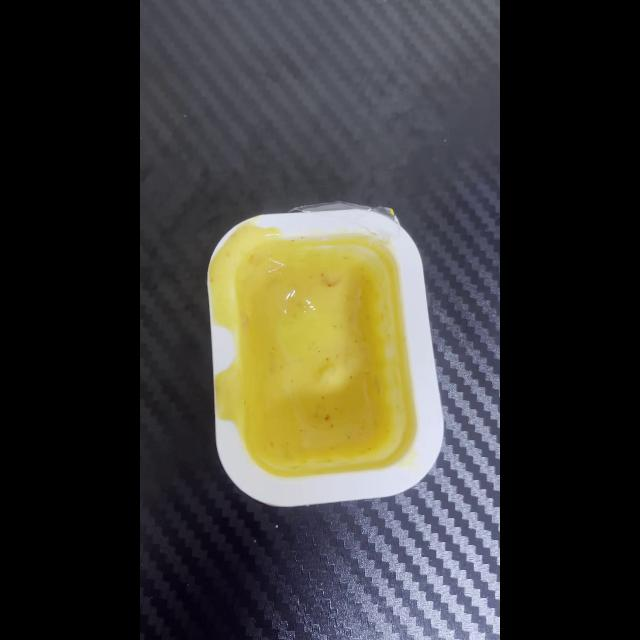dirty: (216, 228, 439, 490)
